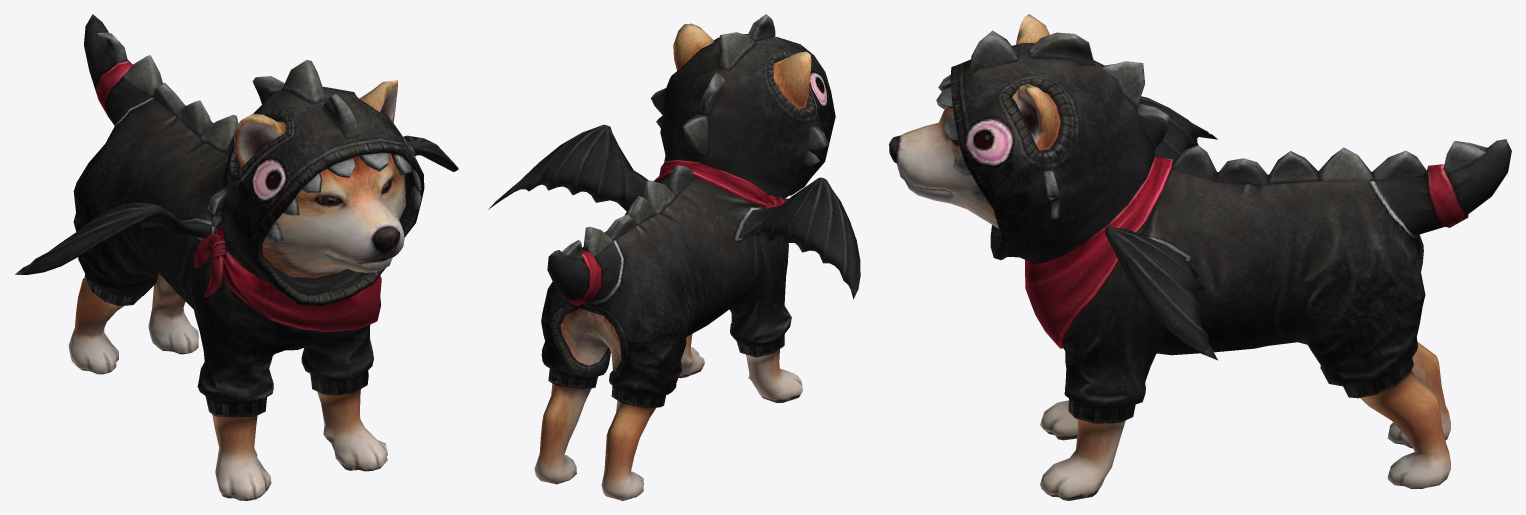
The model's file is frog.glb.
3 renders of one model, left to right at view 1: azimuth 30°, elevation 25°; view 2: azimuth 150°, elevation 25°; view 3: azimuth 270°, elevation 25°, orthographic. The views are drawn at different scales.
Visible parts, largest first — view 1: Object_2; view 2: Object_2; view 3: Object_2.
Part boxes in pixels (<box>): Object_2: <box>15,14,458,500</box>; Object_2: <box>488,14,860,500</box>; Object_2: <box>889,14,1511,500</box>.
Bounding box in the file's own units: 0.4419 × 0.4008 × 0.5265.
Materials: 1 (1 with a texture image).
